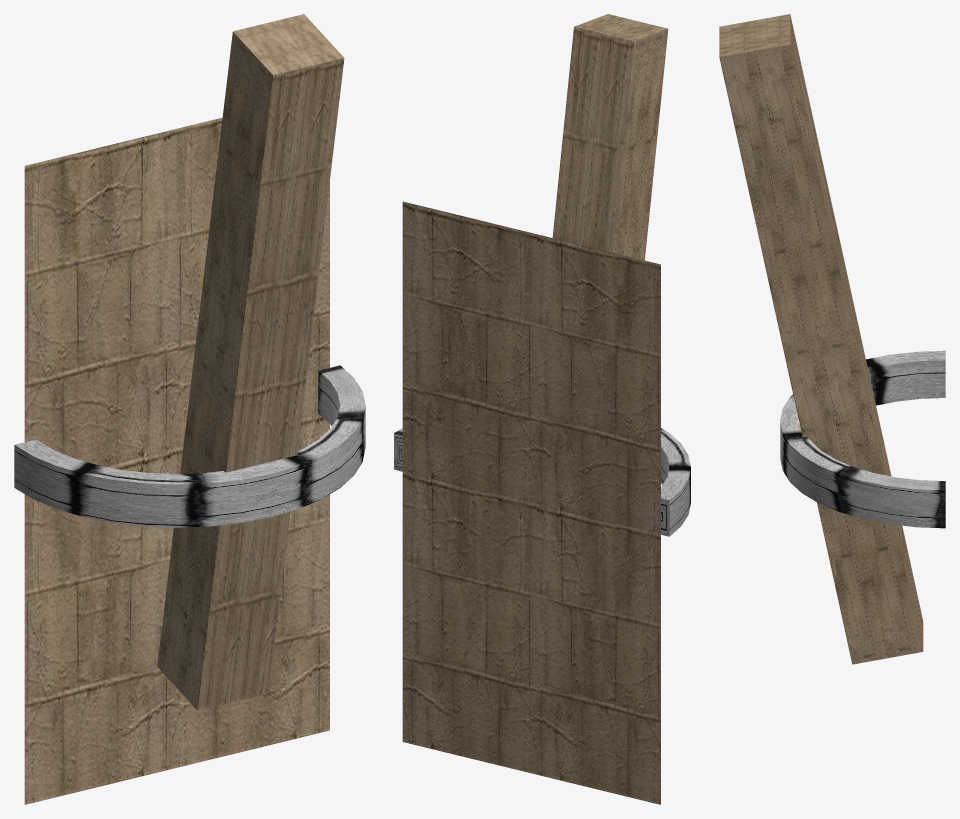
Rendered from Torches.fbx.
3 views of the same model, side by side, from view 1: azimuth 30°, elevation 25°; view 2: azimuth 150°, elevation 25°; view 3: azimuth 270°, elevation 25° (orthographic). The views are drawn at different scales.
Parts seen in each view (by area): view 1: Plane001, Box001, Tube001; view 2: Plane001, Box001, Tube001; view 3: Box001, Tube001.
Boxes of the visible parts, <box> form: Plane001: <box>24,117,329,804</box>; Box001: <box>157,14,344,710</box>; Tube001: <box>14,365,365,527</box>; Plane001: <box>402,201,660,804</box>; Box001: <box>552,14,668,260</box>; Tube001: <box>394,428,690,536</box>; Box001: <box>719,14,923,664</box>; Tube001: <box>780,350,945,528</box>.
Bounding box in the file's own units: 32.02 × 21.89 × 75.95.
